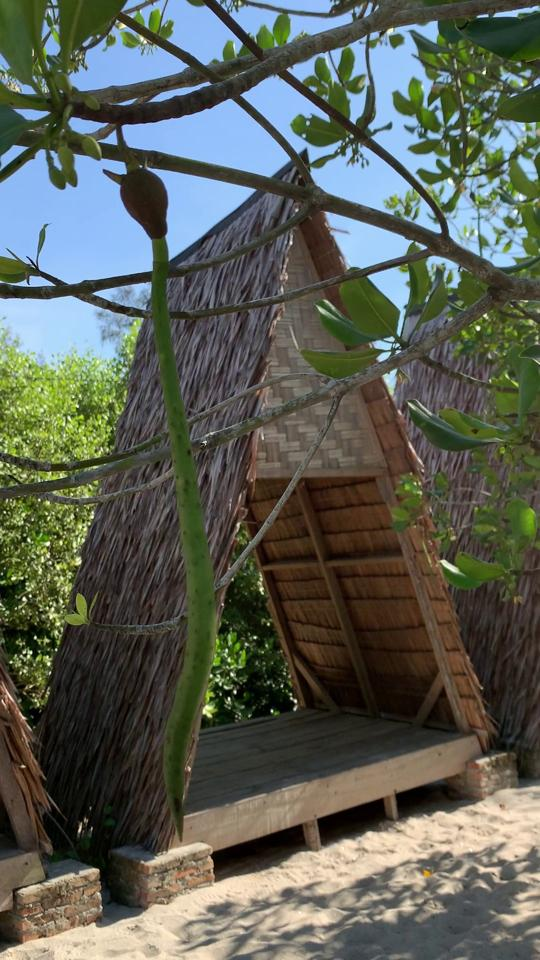setengah matang: (104, 145, 227, 840)
